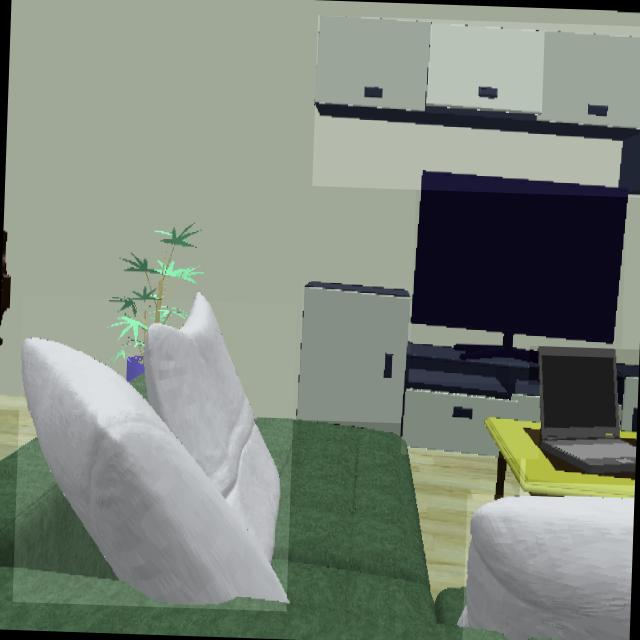cabinet: (314, 16, 640, 196), (297, 282, 411, 433), (401, 384, 540, 457), (621, 378, 638, 430)
laptop: (526, 347, 636, 485)
monitor: (411, 173, 627, 362)
pillow: (20, 301, 286, 607), (462, 495, 634, 640)
sofa: (0, 418, 508, 640)
table: (484, 417, 635, 499)
